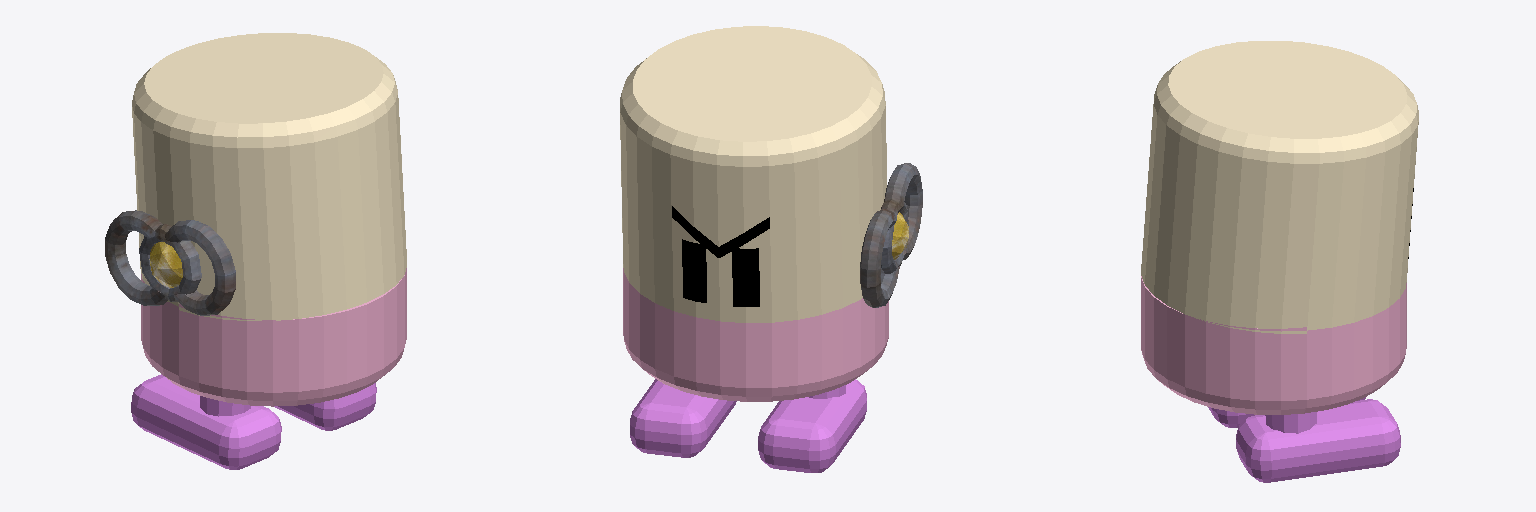
The picture shows the model from 3 angles: view 1: azimuth 30°, elevation 25°; view 2: azimuth 150°, elevation 25°; view 3: azimuth 270°, elevation 25°; orthographic projection.
Parts seen in each view (by area): view 1: Head, Jaw, WindupKey, LeftLeg, RightLeg; view 2: Head, Jaw, LeftLeg, WindupKey, RightLeg; view 3: Head, Jaw, RightLeg.
Boxes of the visible parts, x1=… form: Head: x1=132, y1=33, x2=406, y2=320; Jaw: x1=141, y1=268, x2=406, y2=406; WindupKey: x1=105, y1=210, x2=235, y2=315; LeftLeg: x1=131, y1=374, x2=281, y2=469; RightLeg: x1=274, y1=383, x2=376, y2=430; Head: x1=620, y1=26, x2=886, y2=322; Jaw: x1=623, y1=268, x2=888, y2=401; LeftLeg: x1=758, y1=379, x2=866, y2=472; WindupKey: x1=860, y1=163, x2=922, y2=307; RightLeg: x1=630, y1=379, x2=736, y2=457; Head: x1=1141, y1=41, x2=1418, y2=333; Jaw: x1=1141, y1=276, x2=1406, y2=414; RightLeg: x1=1236, y1=399, x2=1400, y2=482.
Size of the model in its own units: 113 by 149 by 104.
6 materials, 2 textured.